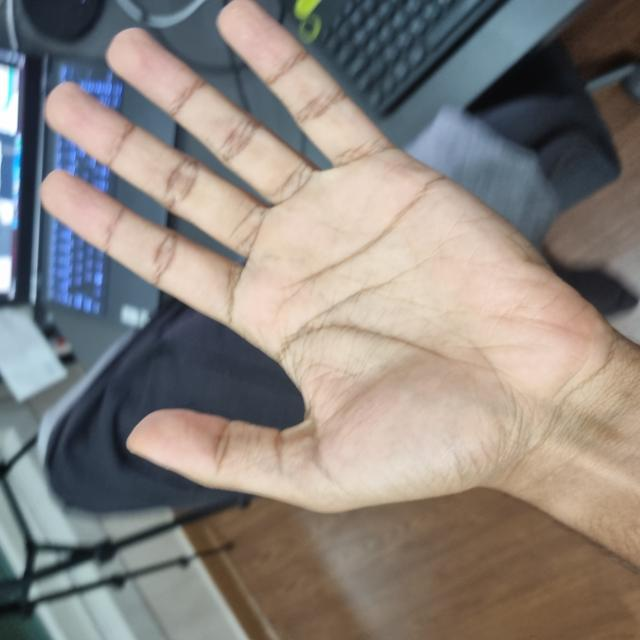Paper: (127, 40, 639, 586)
